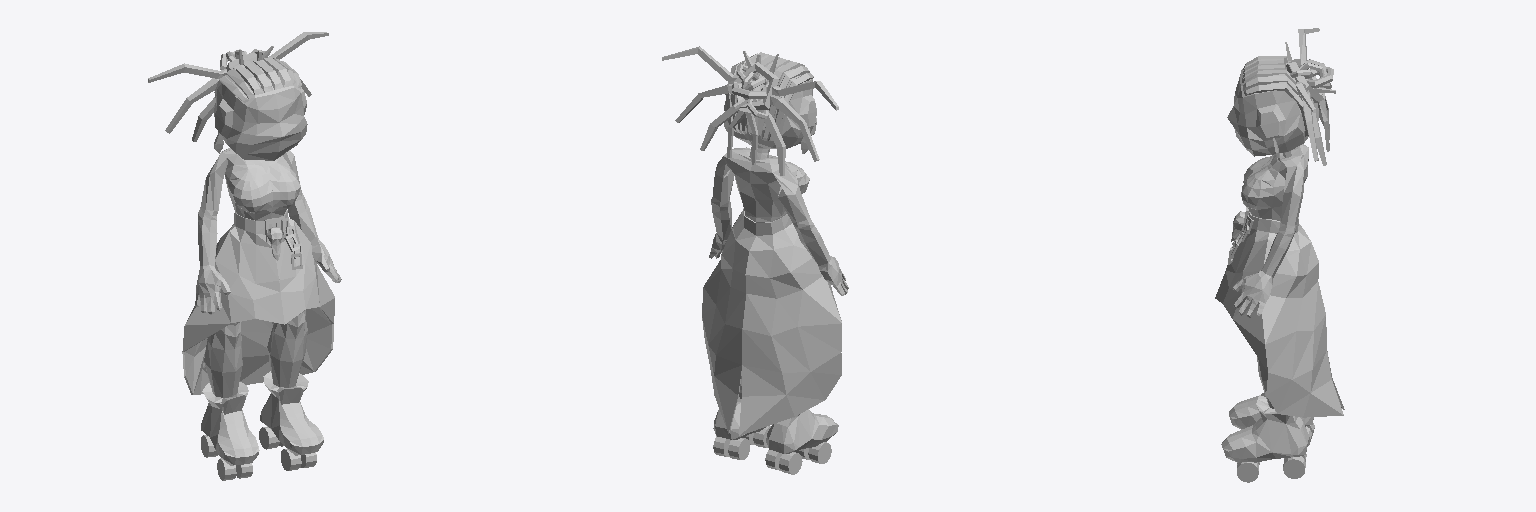
File: bruja_000004.obj
3 views of the same model, side by side, from view 1: azimuth 30°, elevation 25°; view 2: azimuth 150°, elevation 25°; view 3: azimuth 270°, elevation 25° (orthographic).
Visible parts, largest first — view 1: Bruja_Plane.001; view 2: Bruja_Plane.001; view 3: Bruja_Plane.001.
Part boxes in pixels (bbox=[...]): Bruja_Plane.001: bbox=[148, 32, 341, 480]; Bruja_Plane.001: bbox=[662, 46, 848, 474]; Bruja_Plane.001: bbox=[1215, 28, 1344, 482].
Size of the model in its own units: 7.47 by 16.59 by 4.71.